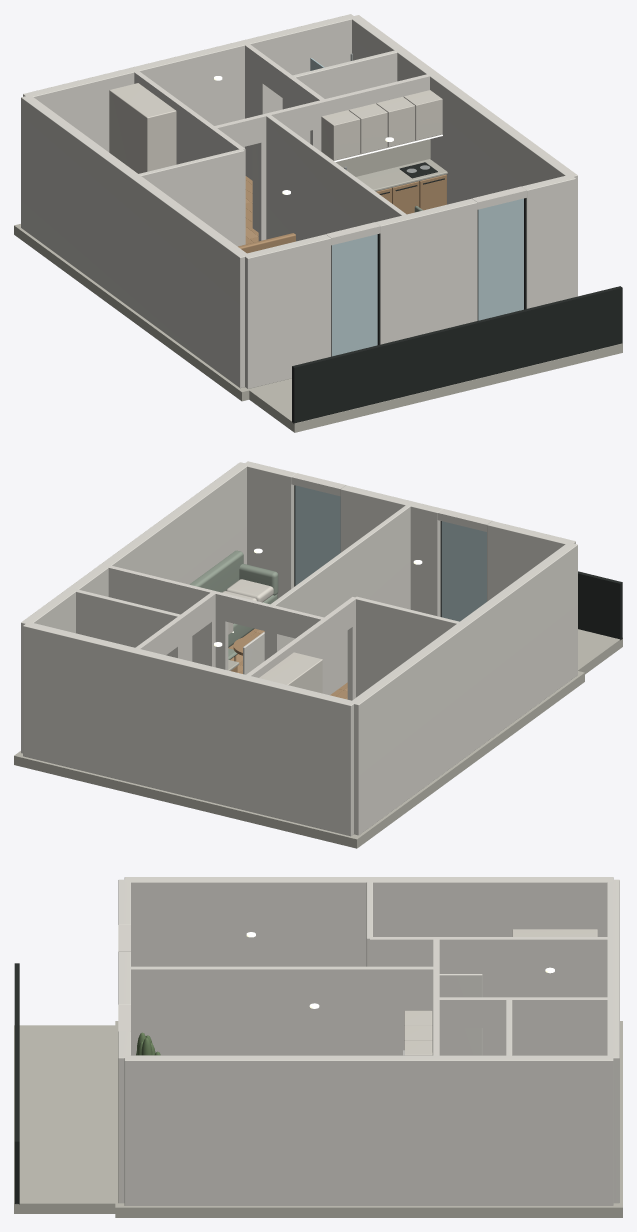
File: interior-3kk.glb
3 renders of one model, top to bottom at view 1: azimuth 30°, elevation 25°; view 2: azimuth 150°, elevation 25°; view 3: azimuth 270°, elevation 25°, orthographic. The views are drawn at different scales.
Visible parts, largest first — view 1: External left, Balcony railing, External rear, South facade pier.001, External right, South facade pier, Main bedroom divider, South facade pier.002, Bedroom back, South glazing, South glazing.001, Full height wardrobe (+21 smaller); view 2: External rear, External left, External right, Main bedroom divider, Subfloor, South facade pier.001, Bedroom back, South facade pier.002, Living / hall pier B, South glazing, Service separator, South glazing.001 (+17 smaller); view 3: External right, External left, Main bedroom divider, Balcony floor, Study hall pier B, Subfloor, External rear, Bath hall pier B, Study hall lintel, Balcony railing, WC hall lintel, Bath hall lintel (+10 smaller).
Boxes of the visible parts, x1,y1,x2,y2 form: External left: (21, 95, 248, 388); Balcony railing: (292, 286, 622, 423); External rear: (23, 14, 353, 152); South facade pier.001: (375, 198, 477, 344); External right: (350, 15, 577, 296); South facade pier: (245, 234, 331, 388); Main bedroom divider: (266, 114, 406, 241); South facade pier.002: (522, 175, 575, 308); Bedroom back: (134, 149, 244, 246); South glazing: (332, 234, 377, 356); South glazing.001: (478, 198, 523, 320); Full height wardrobe: (109, 83, 176, 173); External rear: (23, 622, 355, 836); External left: (351, 542, 577, 835); External right: (21, 462, 247, 753); Main bedroom divider: (270, 503, 411, 694); Subfloor: (14, 671, 584, 848); South facade pier.001: (340, 485, 442, 616); Bedroom back: (355, 596, 463, 697); South facade pier.002: (244, 461, 296, 598); Living / hall pier B: (104, 565, 228, 670); South glazing: (441, 521, 486, 621); Service separator: (72, 588, 180, 656); South glazing.001: (295, 485, 340, 585); External right: (124, 1055, 613, 1205); External left: (124, 877, 613, 966); Main bedroom divider: (130, 966, 433, 1055); Balcony floor: (14, 1025, 121, 1213); Study hall pier B: (431, 937, 607, 1055); Subfloor: (115, 1021, 622, 1217); External rear: (607, 879, 619, 1203); Bath hall pier B: (567, 997, 613, 1055); Study hall lintel: (381, 937, 431, 966); Balcony railing: (14, 963, 19, 1204); WC hall lintel: (447, 997, 491, 1027); Bath hall lintel: (523, 997, 567, 1027).
Bounding box in the file's own units: 6.97 × 2.72 × 9.62.
